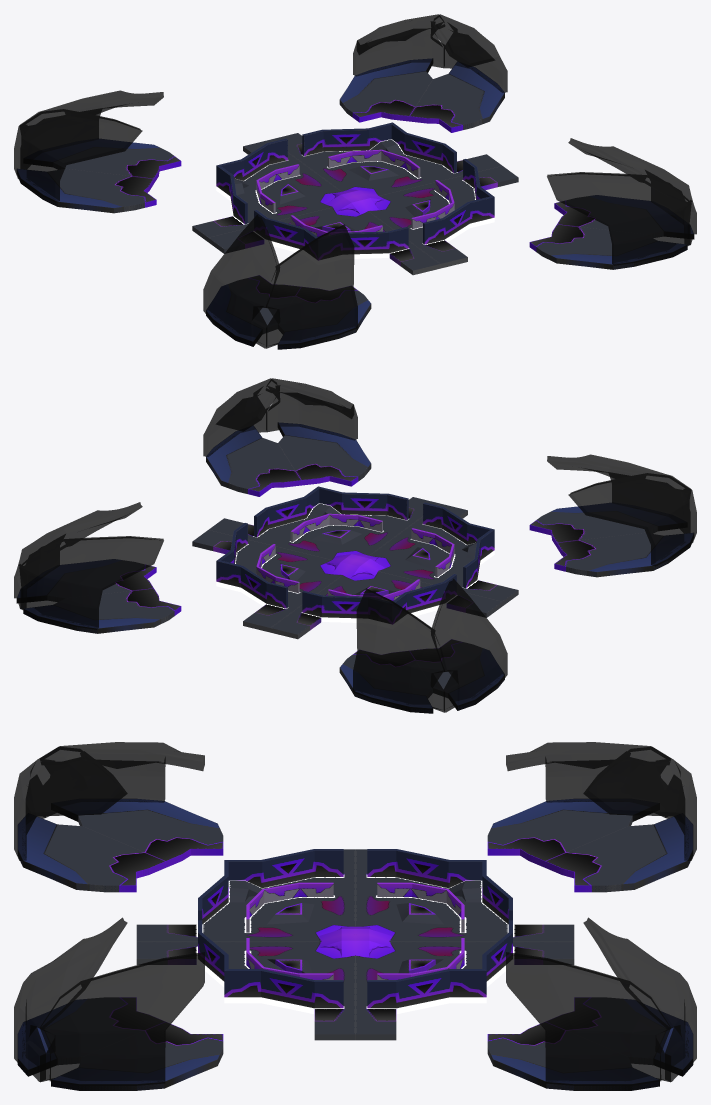
Rendered from ProjectTAG_Level.fbx.
3 views of the same model, one above another, from view 1: azimuth 30°, elevation 25°; view 2: azimuth 150°, elevation 25°; view 3: azimuth 270°, elevation 25° (orthographic). The views are drawn at different scales.
Parts seen in each view (by area): view 1: SideIslandWalls, SideIsland, CentrePlatform, OuterWalls, InnerWalls; view 2: SideIslandWalls, SideIsland, CentrePlatform, OuterWalls, InnerWalls; view 3: SideIslandWalls, SideIsland, CentrePlatform, OuterWalls, InnerWalls.
Part boxes in pixels (left/top/right/bottom): SideIslandWalls: left=14, top=14, right=696, bottom=348; SideIsland: left=17, top=58, right=694, bottom=349; CentrePlatform: left=192, top=133, right=518, bottom=275; OuterWalls: left=216, top=122, right=494, bottom=259; InnerWalls: left=256, top=149, right=454, bottom=236; SideIslandWalls: left=14, top=378, right=696, bottom=712; SideIsland: left=16, top=422, right=693, bottom=713; CentrePlatform: left=192, top=497, right=518, bottom=639; OuterWalls: left=216, top=486, right=494, bottom=623; InnerWalls: left=256, top=513, right=454, bottom=600; SideIslandWalls: left=14, top=742, right=696, bottom=1085; SideIsland: left=17, top=798, right=693, bottom=1090; CentrePlatform: left=136, top=849, right=574, bottom=1040; OuterWalls: left=198, top=849, right=512, bottom=1008; InnerWalls: left=246, top=882, right=464, bottom=979.
Size of the model in its own units: 468 by 71.99 by 468.
2 materials, 1 textured.
